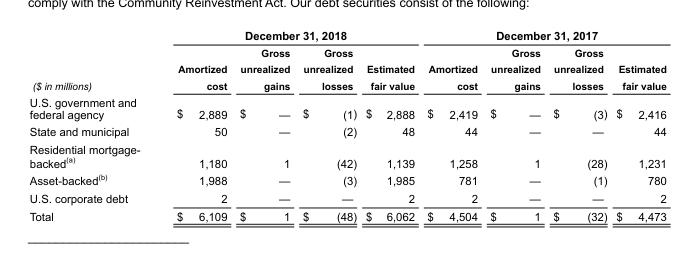table: (28, 28, 665, 222)
table column: (28, 28, 157, 222), (157, 28, 232, 222), (295, 28, 360, 222), (546, 28, 611, 222), (232, 28, 295, 222), (420, 28, 483, 222), (483, 28, 546, 222), (360, 28, 420, 222), (611, 28, 665, 222)
table column header: (28, 28, 665, 93)
table row: (28, 44, 665, 93), (28, 140, 665, 170), (28, 93, 665, 122), (28, 170, 665, 189), (28, 122, 665, 140), (28, 189, 665, 206), (28, 28, 665, 44), (28, 206, 665, 222)
table spanning cell: (28, 28, 157, 93), (157, 28, 420, 44), (420, 28, 665, 44)
